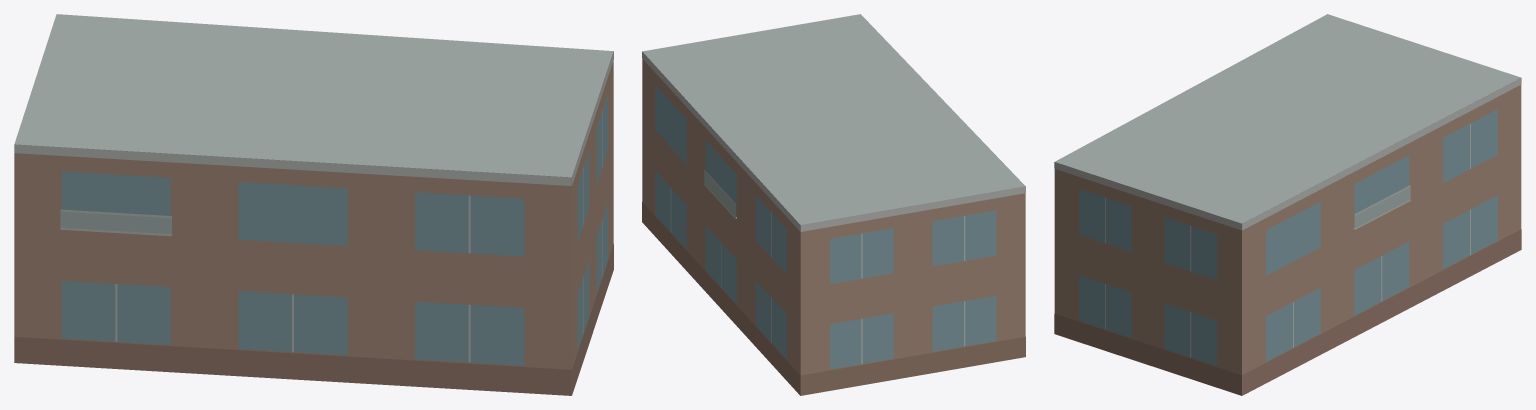
File: survey-upis-32851931.glb
The picture shows the model from 3 angles, left to right: view 1: azimuth 30°, elevation 25°; view 2: azimuth 150°, elevation 25°; view 3: azimuth 270°, elevation 25°; orthographic projection. The views are drawn at different scales.
Parts seen in each view (by area): view 1: survey-upis-32851931.tmp; view 2: survey-upis-32851931.tmp; view 3: survey-upis-32851931.tmp.
Part boxes in pixels (x1,y1,x2,y2): survey-upis-32851931.tmp: [14, 14, 613, 395]; survey-upis-32851931.tmp: [642, 14, 1025, 395]; survey-upis-32851931.tmp: [1054, 14, 1521, 395].
Size of the model in its own units: 15.94 by 6.1 by 15.
